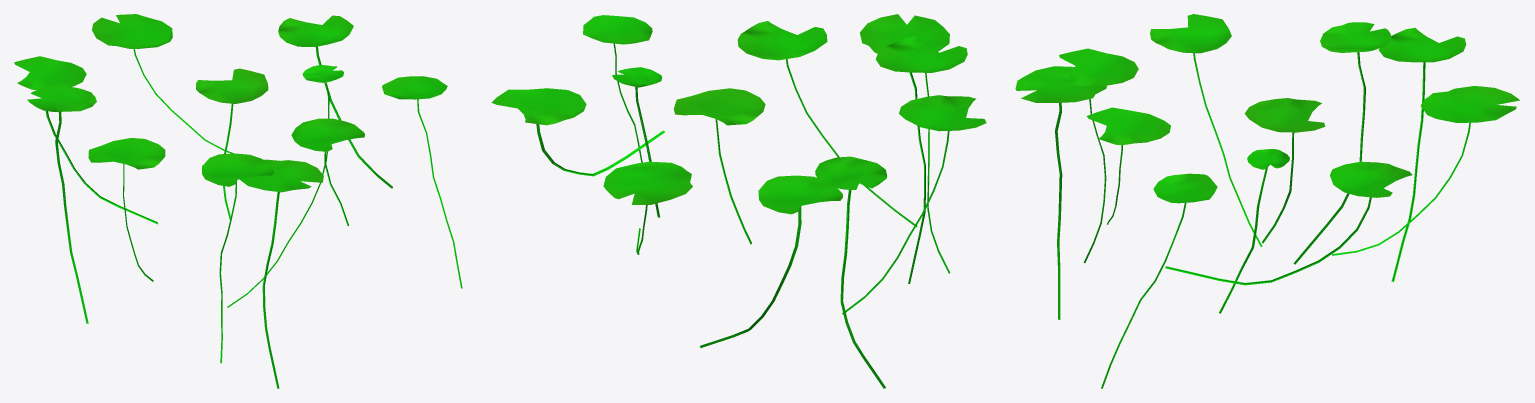
File: uc2jdibia_Var2_LOD0.fbx
3 views of the same model, side by side, from view 1: azimuth 30°, elevation 25°; view 2: azimuth 150°, elevation 25°; view 3: azimuth 270°, elevation 25° (orthographic). The views are drawn at different scales.
Parts seen in each view (by area): view 1: _e70e_Var2_LOD0; view 2: _e70e_Var2_LOD0; view 3: _e70e_Var2_LOD0.
Boxes of the visible parts, x1,y1,x2,y2 form: _e70e_Var2_LOD0: (14,14,462,388); _e70e_Var2_LOD0: (491,14,986,388); _e70e_Var2_LOD0: (1015,14,1519,388).
Size of the model in its own units: 118 by 70.13 by 134.
